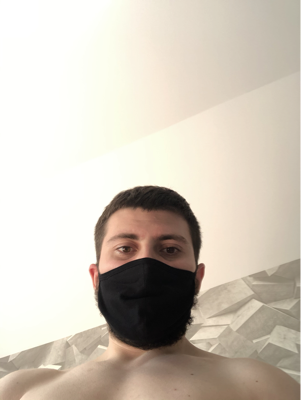with_mask: (96, 226, 199, 350)
